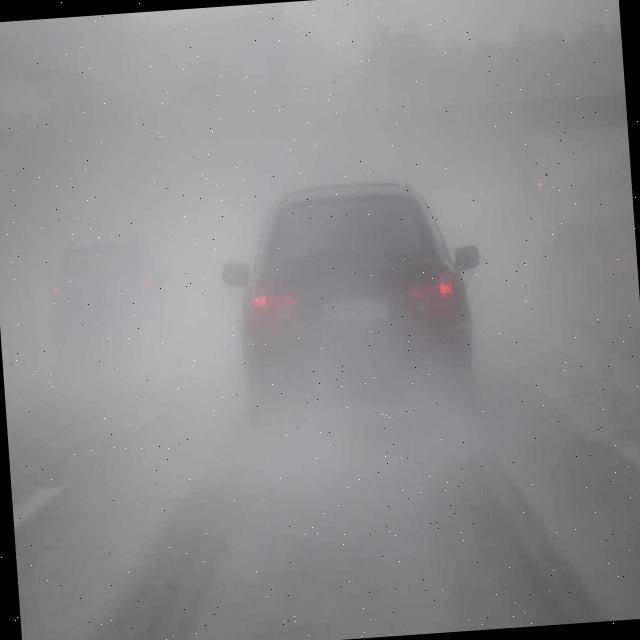car: (215, 172, 494, 481), (42, 228, 178, 396)
